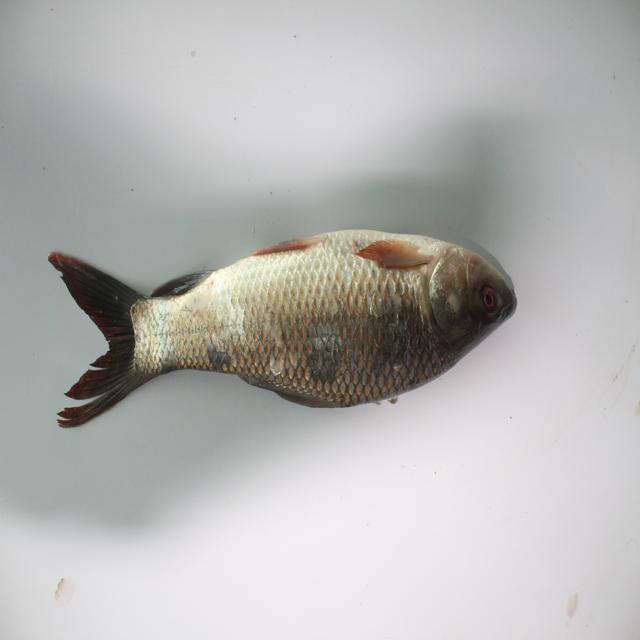Rohu: (32, 215, 530, 438)
